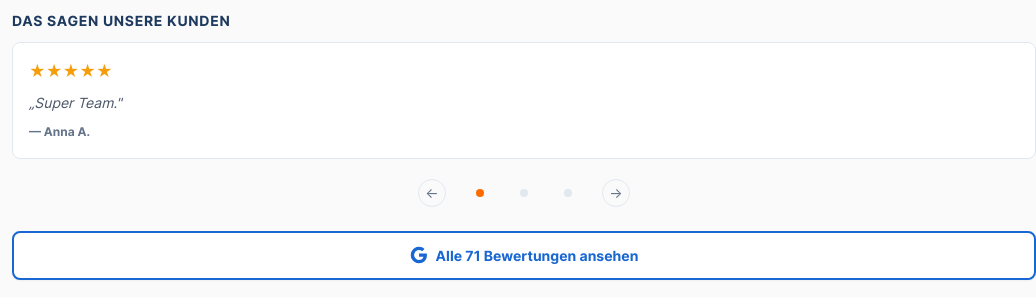
Test case: ServiceReviews › cycles backwards with wrap-around from the first review
Step 1. Click the button named "Vorherige Bewertung" → point(432, 193), box [418,179,446,207]
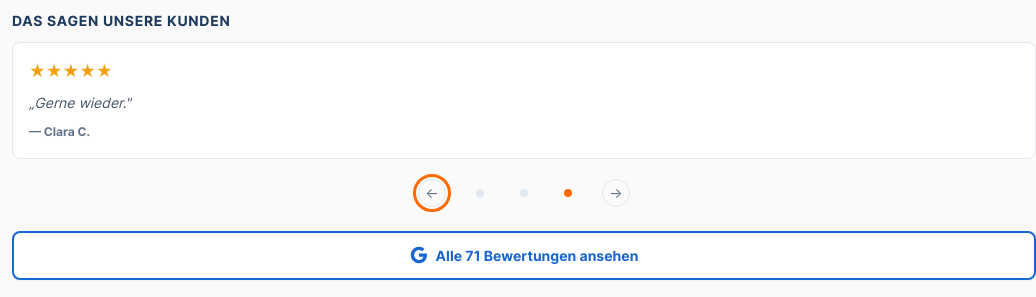
Result: the text "„Gerne wieder.\"" is shown at [29,94,131,110]
